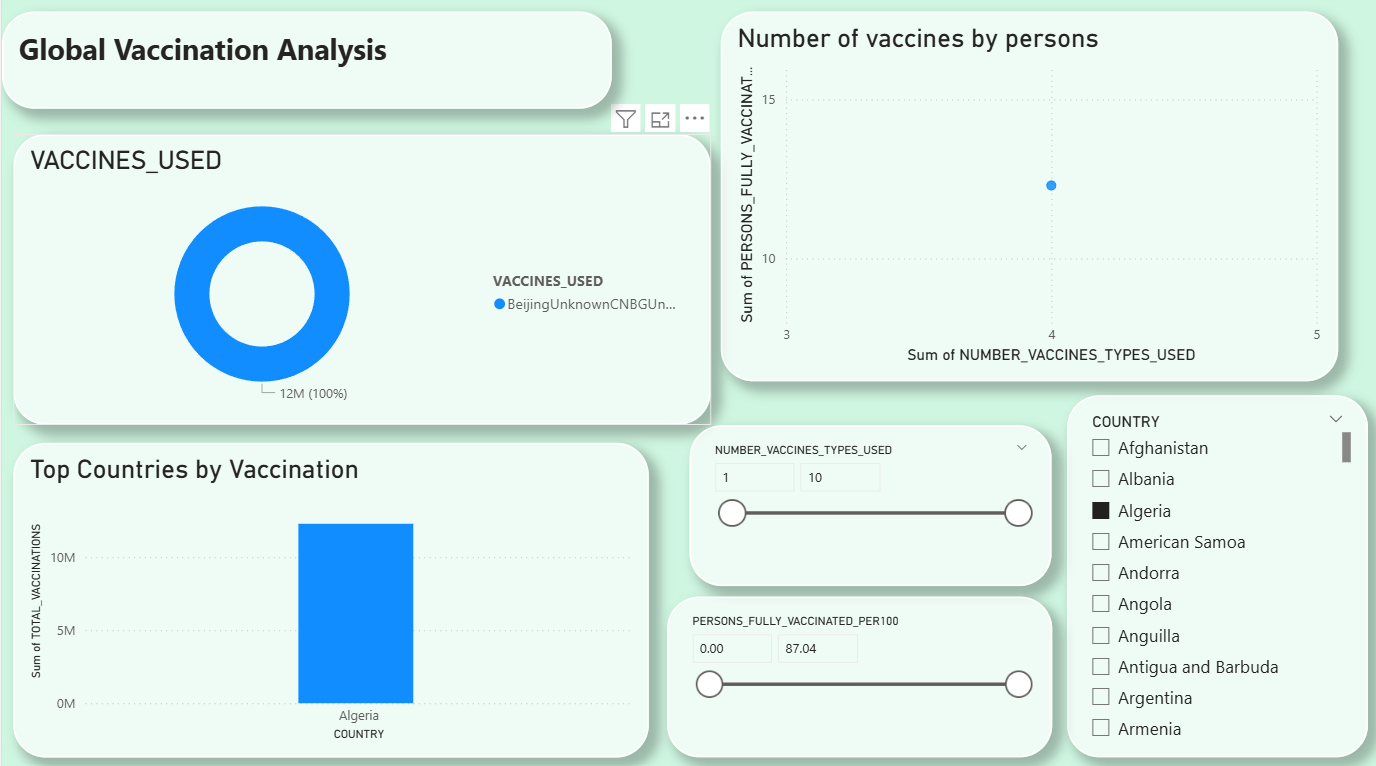

Layout of this report page (visuals, bound fields, positions):
{"tool":"powerbi","page":{"name":"Vaccination Analysis","canvas":[1280,720],"ordinal":3},"visuals":[{"type":"donutChart","title":"VACCINES_USED","fields":{"Category":["vaccination-data.VACCINES_USED"],"Y":["Sum(vaccination-data.TOTAL_VACCINATIONS)"]},"box":[10.7,130.6,648.8,270.4],"z":0},{"type":"clusteredColumnChart","title":"Top Countries by Vaccination","fields":{"Category":["vaccination-data.COUNTRY"],"Y":["Sum(vaccination-data.TOTAL_VACCINATIONS)"]},"box":[10.7,417,591.5,293.1],"z":1},{"type":"scatterChart","title":"Number of vaccines by persons","fields":{"X":["Sum(vaccination-data.NUMBER_VACCINES_TYPES_USED)"],"Y":["Sum(vaccination-data.PERSONS_FULLY_VACCINATED_PER100)"]},"box":[668.8,16,574.2,343.7],"z":2},{"type":"slicer","fields":{"Values":["vaccination-data.COUNTRY"]},"box":[991.2,373,279.8,337.1],"z":3},{"type":"slicer","fields":{"Values":["vaccination-data.NUMBER_VACCINES_TYPES_USED"]},"box":[639.5,401,337.1,149.2],"z":4},{"type":"slicer","fields":{"Values":["vaccination-data.PERSONS_FULLY_VACCINATED_PER100"]},"box":[618.2,560.9,358.4,149.2],"z":5},{"type":"textbox","box":[0,16,567.5,90.6],"z":6}]}

Visuals, with their boxes in screenshot pixels (x1, y1, x2, y2), scaled from the page's 1280x720 canvas onto the 1376x766 screenshot:
"VACCINES_USED" donutChart: left=12, top=139, right=709, bottom=427
"Top Countries by Vaccination" clusteredColumnChart: left=12, top=444, right=647, bottom=755
"Number of vaccines by persons" scatterChart: left=719, top=17, right=1336, bottom=383
slicer - vaccination-data.COUNTRY: left=1066, top=397, right=1366, bottom=755
slicer - vaccination-data.NUMBER_VACCINES_TYPES_USED: left=687, top=427, right=1050, bottom=585
slicer - vaccination-data.PERSONS_FULLY_VACCINATED_PER100: left=665, top=597, right=1050, bottom=755
textbox: left=0, top=17, right=610, bottom=113
